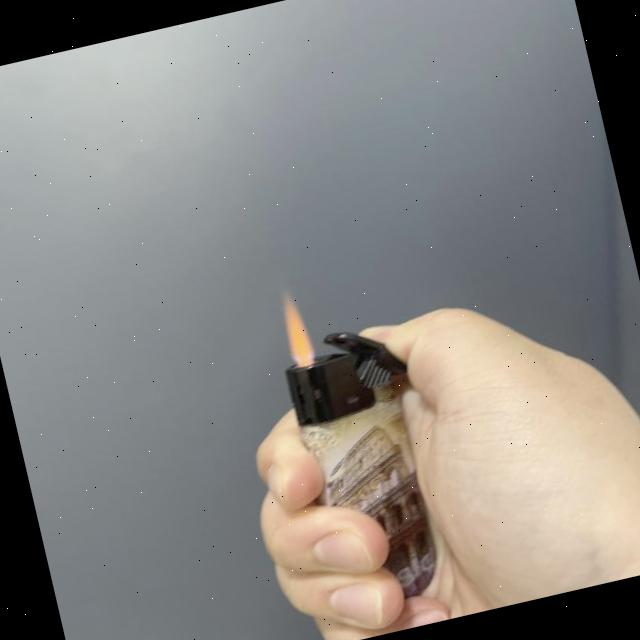fire: (272, 280, 320, 370)
